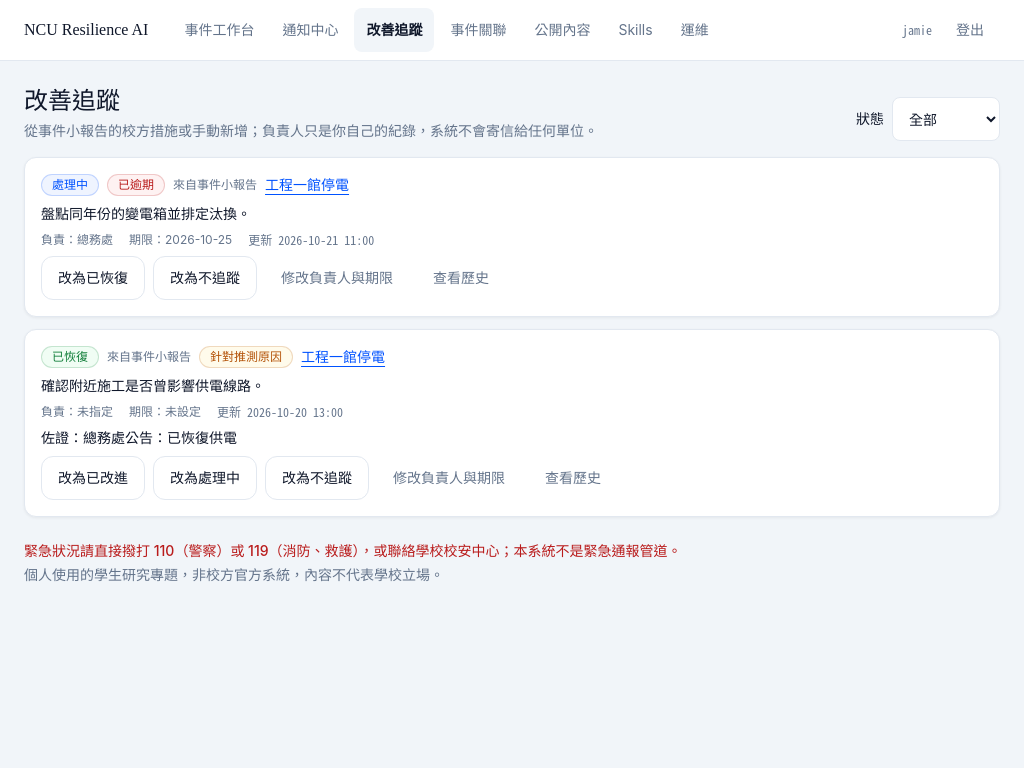
it: ResponseActions › 轉移被拒時顯示伺服器訊息
The width and height of the screenshot is (1024, 768).
Click the button "改為不追蹤" below "已逾期".
click(205, 278)  # box [153,256,257,300]
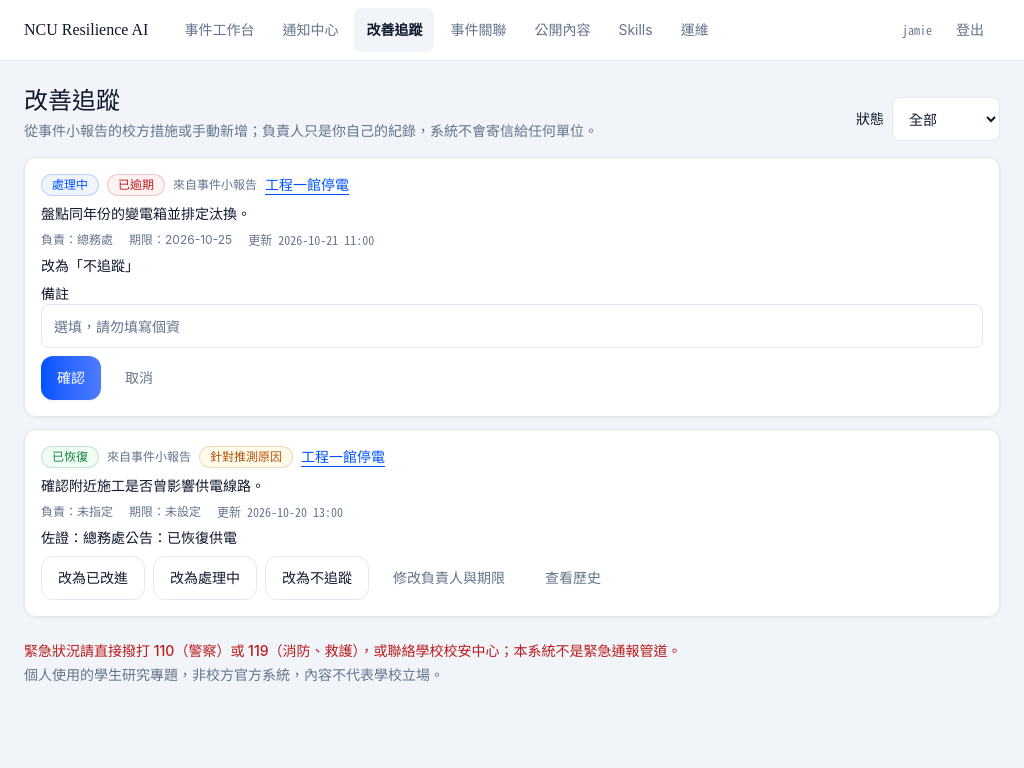
Type "0912345678" into the field labelled "備註".
click(512, 326); type("0912345678")  # box [41,304,983,348]
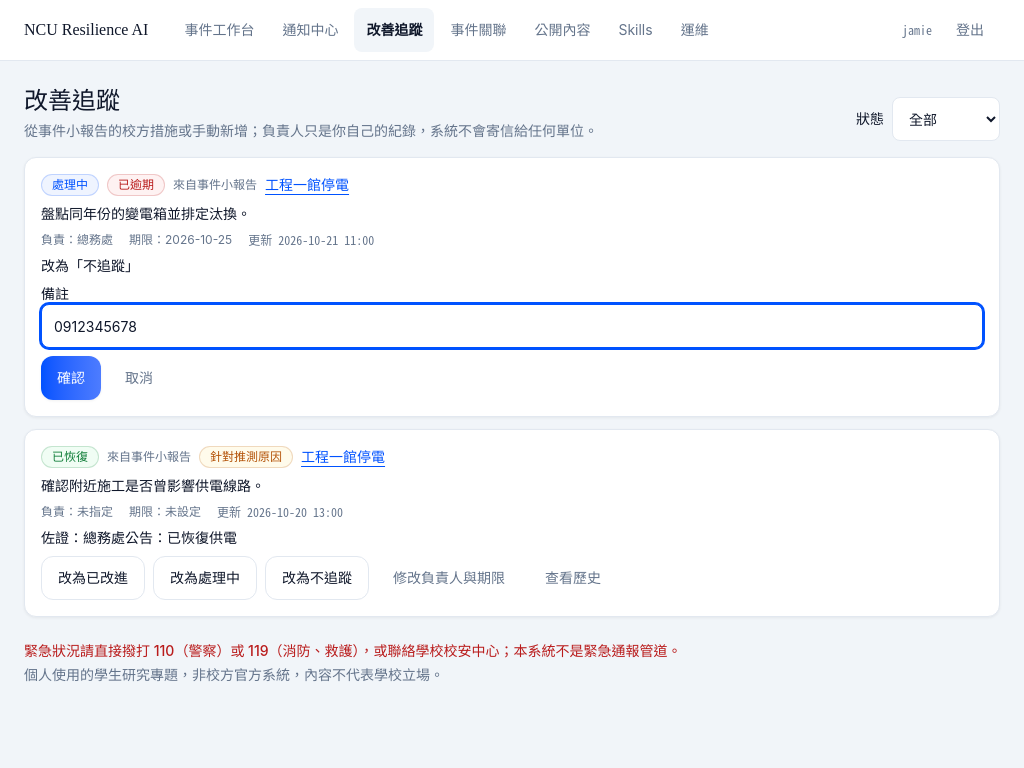
Click the button "確認".
click(71, 378)  # box [41,356,101,400]
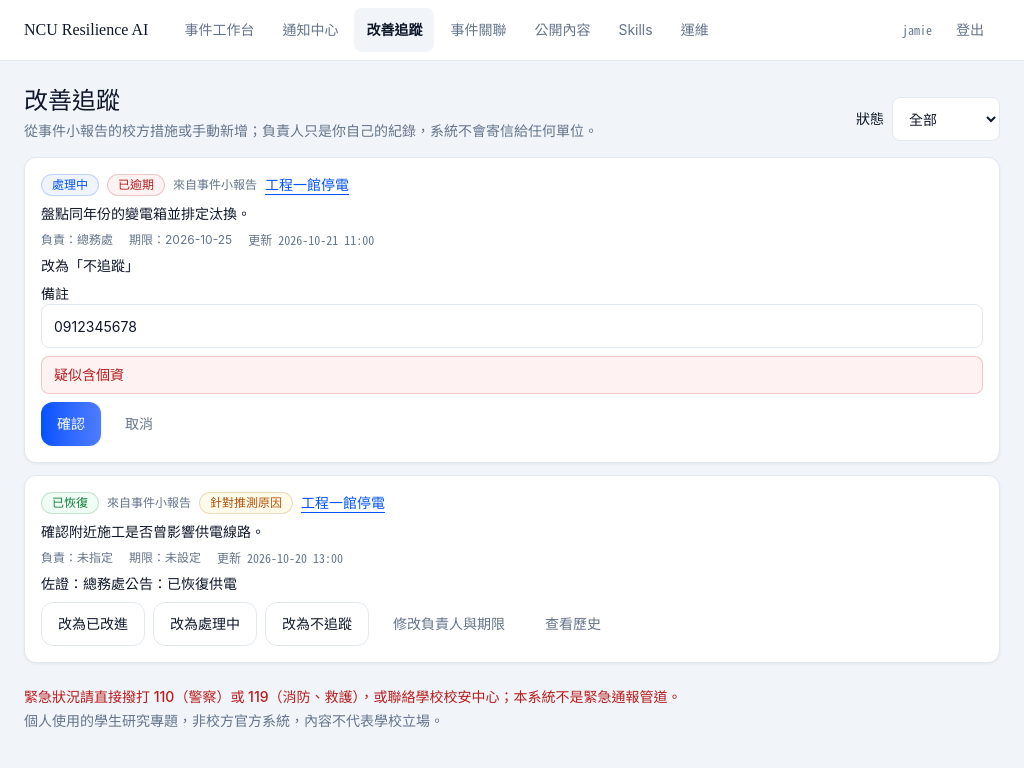
Result: the message reads "疑似含個資" at [54,366,124,383]
